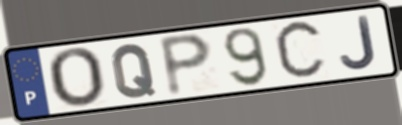9: (219, 26, 271, 88)
C: (272, 17, 329, 85)
J: (338, 14, 380, 72)
O: (45, 46, 107, 110)
P: (156, 31, 215, 99)
Q: (109, 42, 158, 100)
